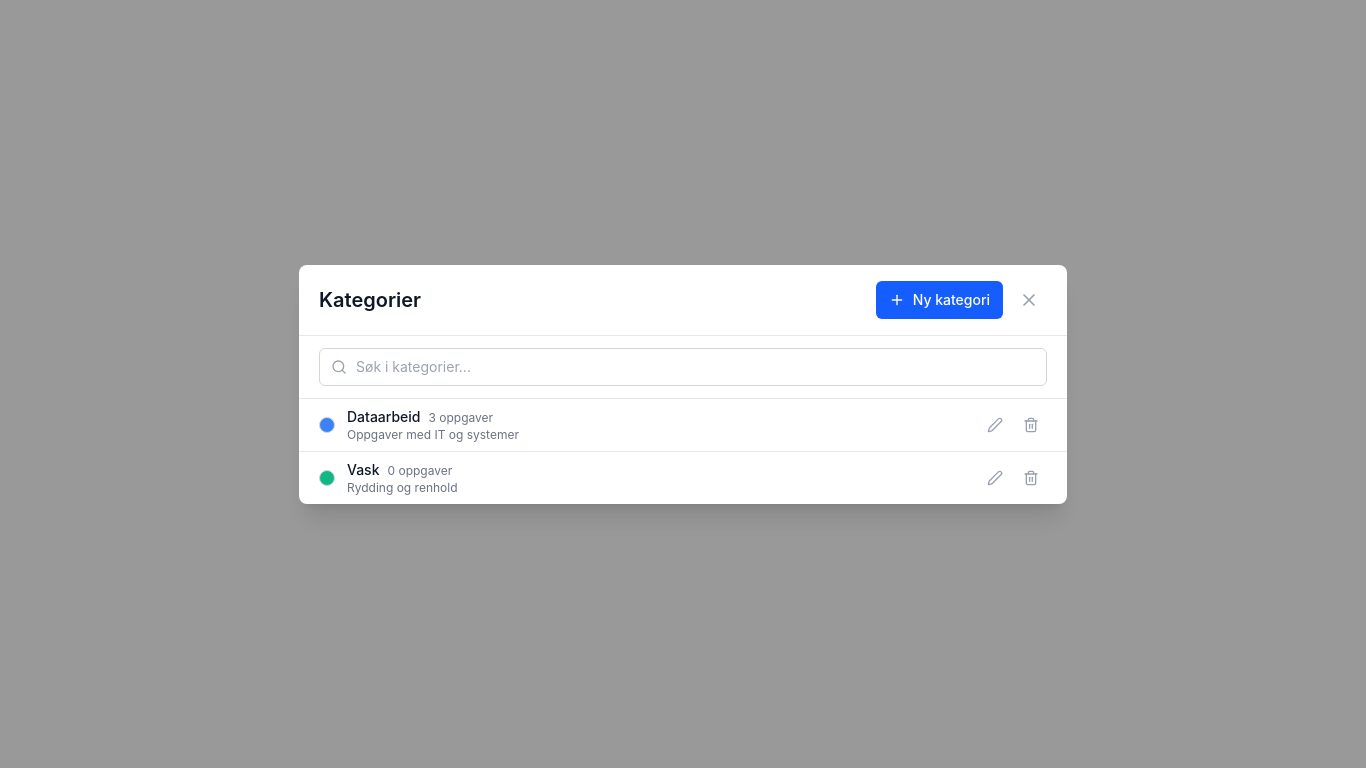
Scenario: CategoryManagement › filters categories by search query
Expected: the heading "Dataarbeid" is shown, [347,406,420,426]
Step 1. Type "vask" into the field with placeholder "Søk i kategorier..." → (683, 366), box [319,348,1047,386]
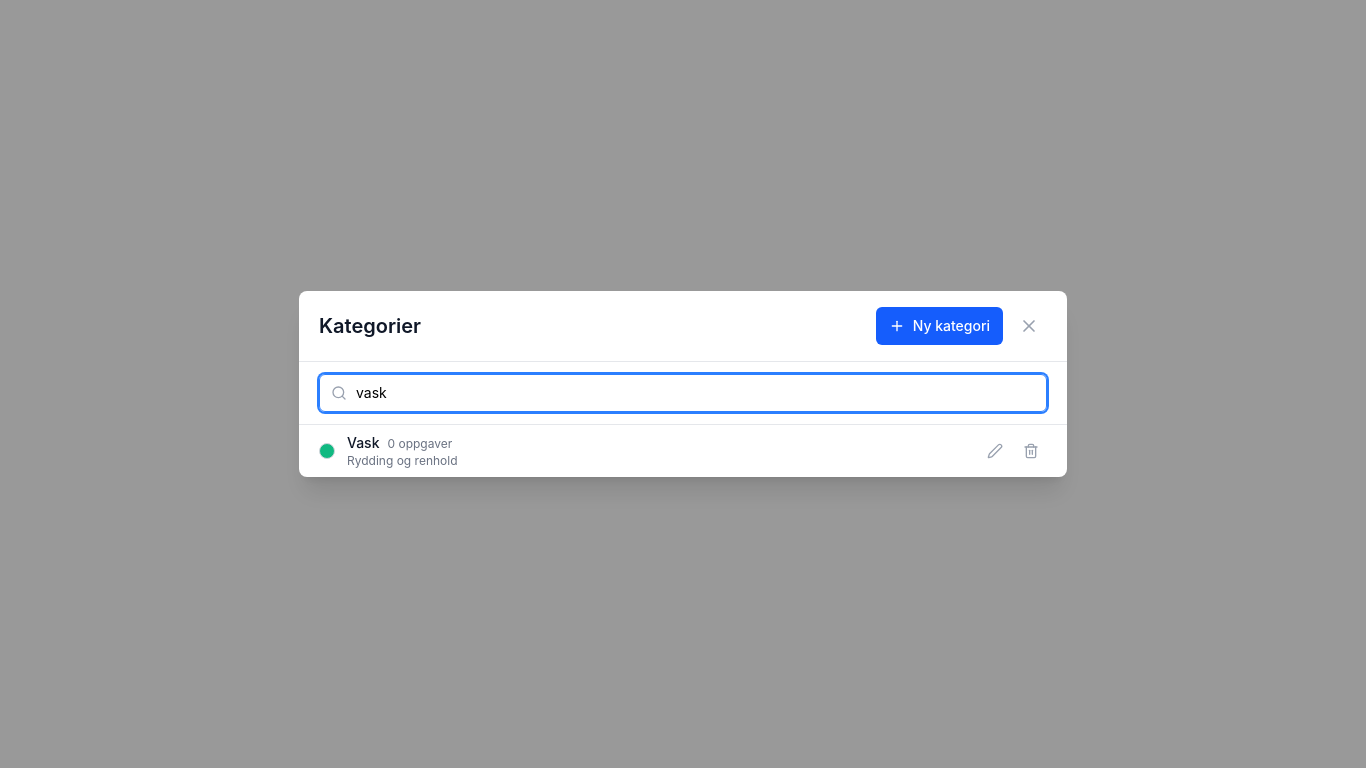
Expected: the heading "Vask" is shown, [347,433,380,453]
Result: the heading "Dataarbeid" is gone
